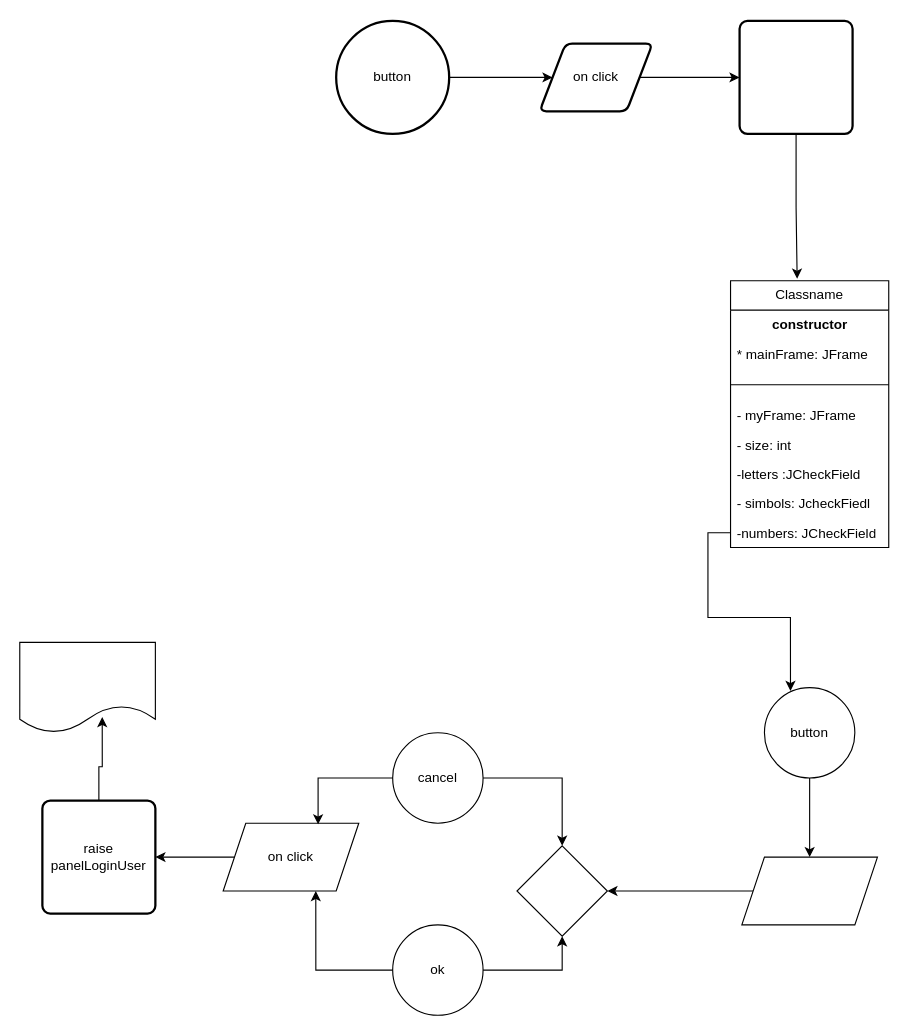
The diagram is 909 pixels wide and 1035 high, and some of its shapes have lost their labels. The centre of each missing label's shape, as x and y in pixels:
"on clik" goes at (809,890).
"options" goes at (561,890).
"raise PanelPassword" goes at (795,76).
"recibe the password generated text" goes at (87,687).
